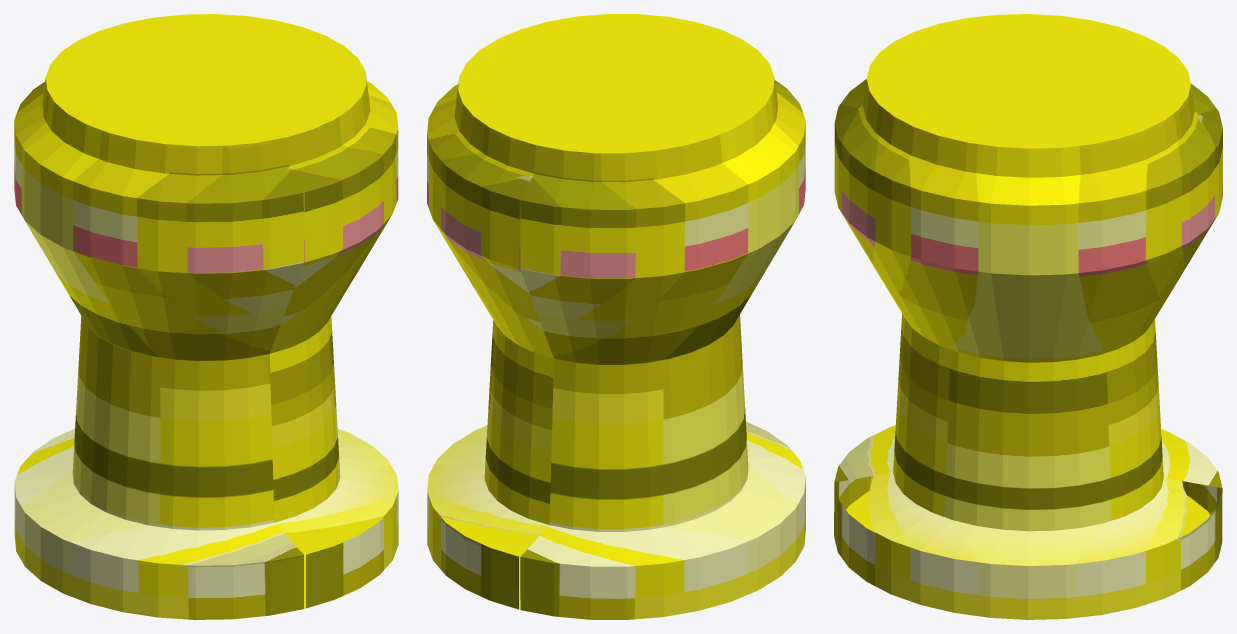
File: Goblet4.fbx
3 views of the same model, side by side, from view 1: azimuth 30°, elevation 25°; view 2: azimuth 150°, elevation 25°; view 3: azimuth 270°, elevation 25° (orthographic).
Visible parts, largest first — view 1: GobletPickup.003; view 2: GobletPickup.003; view 3: GobletPickup.003.
Boxes of the visible parts, left/top/right/bottom form: GobletPickup.003: left=14, top=14, right=398, bottom=619; GobletPickup.003: left=427, top=14, right=805, bottom=619; GobletPickup.003: left=834, top=14, right=1222, bottom=619.
Size of the model in its own units: 0.6536 by 0.877 by 0.6667.
